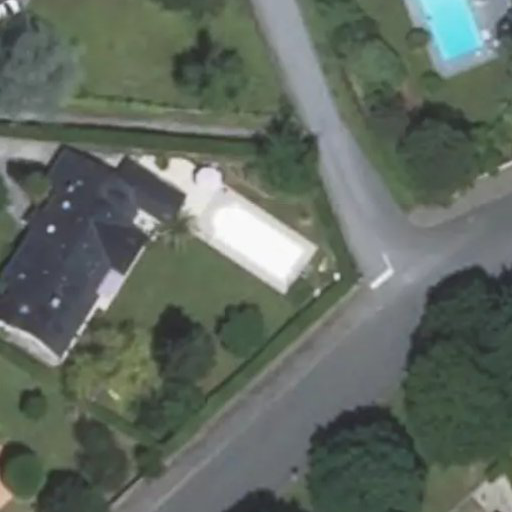pool: (202, 228, 300, 249)
